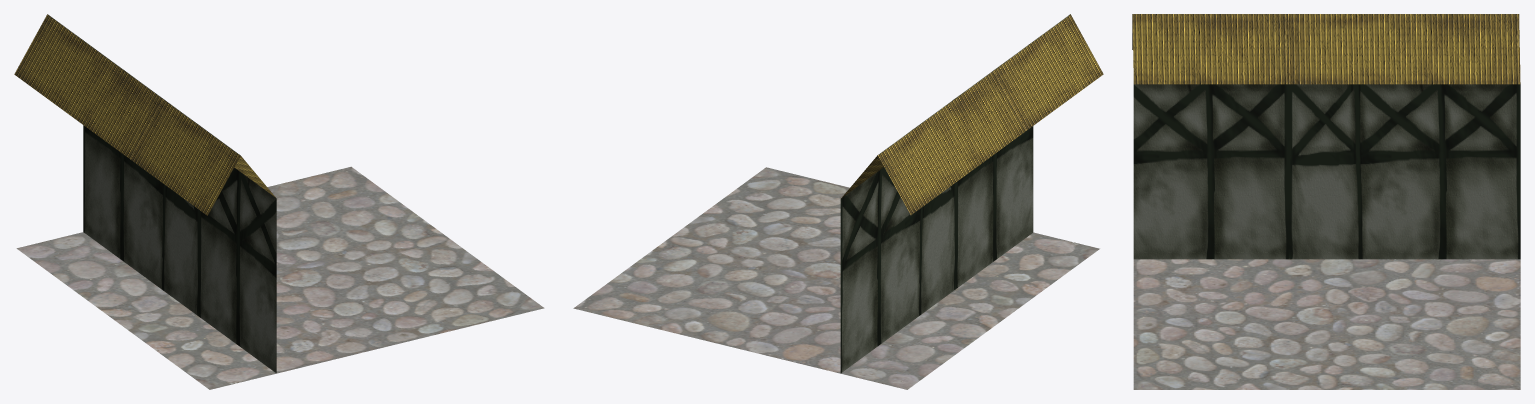
File: 3-5_Long_Wall_v2.fbx
3 views of the same model, side by side, from view 1: azimuth 30°, elevation 25°; view 2: azimuth 150°, elevation 25°; view 3: azimuth 270°, elevation 25° (orthographic).
Parts seen in each view (by area): view 1: Long_wall_V2; view 2: Long_wall_V2; view 3: Long_wall_V2.
Part boxes in pixels (box(x1,y1,x2,y2)): Long_wall_V2: box(14, 14, 544, 389); Long_wall_V2: box(573, 14, 1103, 389); Long_wall_V2: box(1132, 14, 1520, 389).
Size of the model in its own units: 101 by 64.88 by 100.
2 materials, 2 textured.
